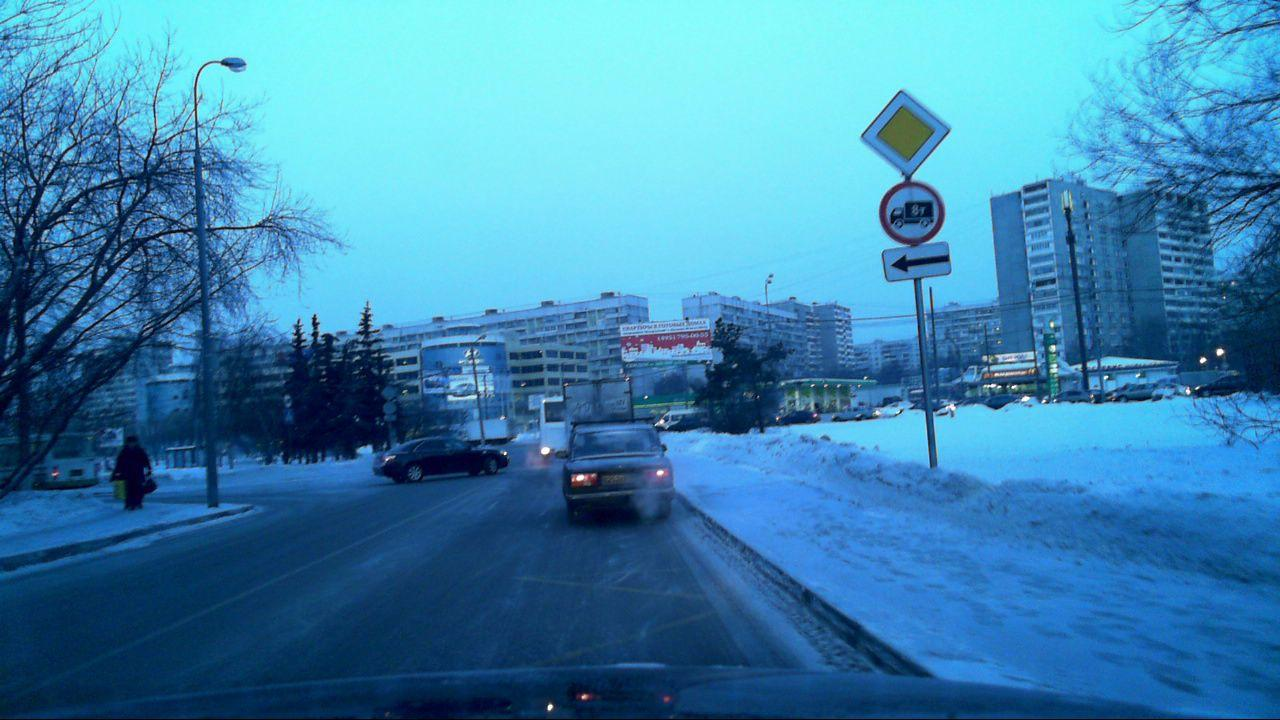2_1: (857, 87, 953, 177)
3_4: (878, 180, 944, 246)
8_3_2: (882, 241, 952, 283)
